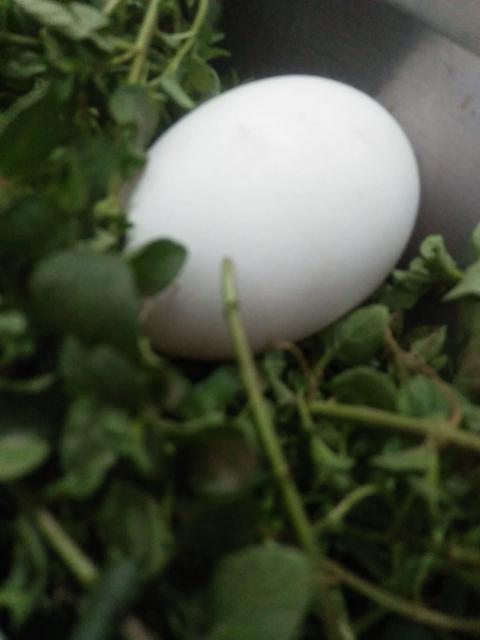Sano: (120, 72, 422, 361)
